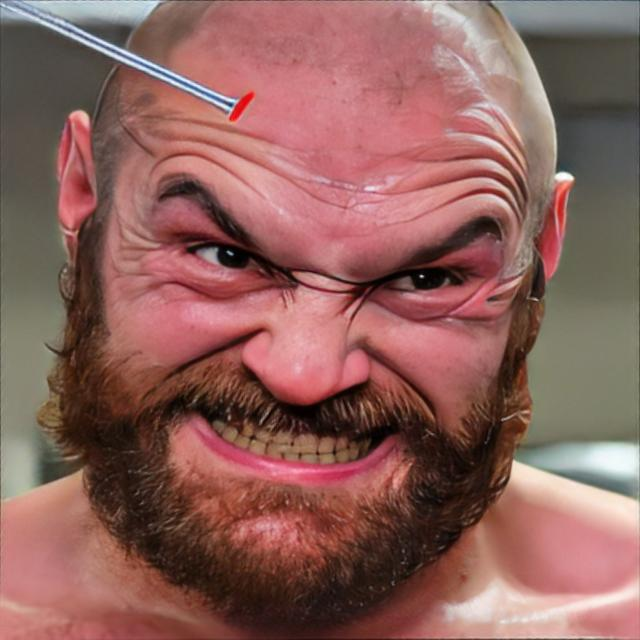anger: (87, 86, 525, 613)
